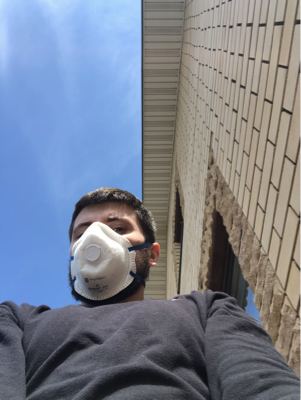with_mask: (68, 213, 144, 306)
